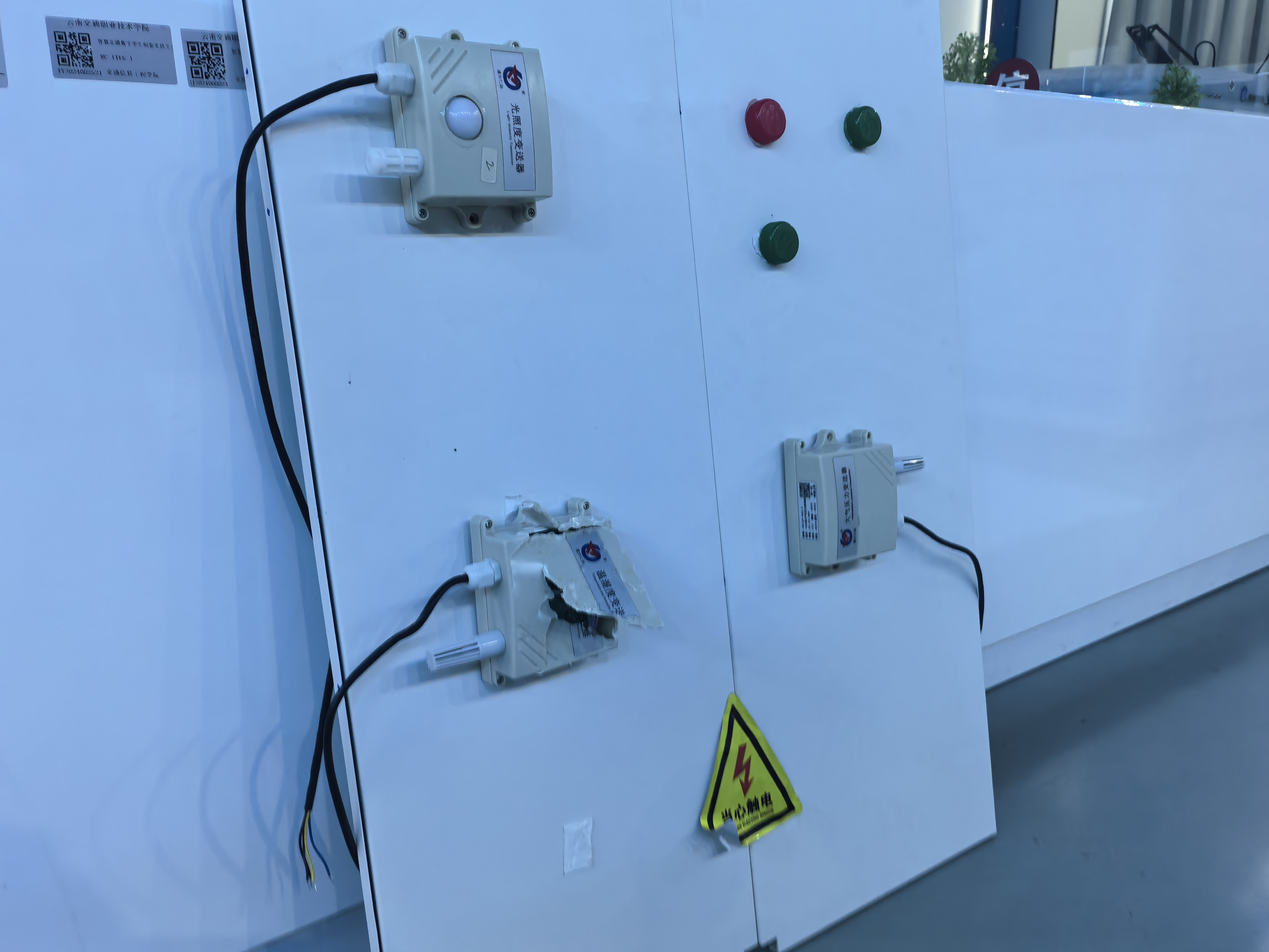red_warning: (731, 65, 796, 145)
sensor_damage: (414, 473, 679, 701)
